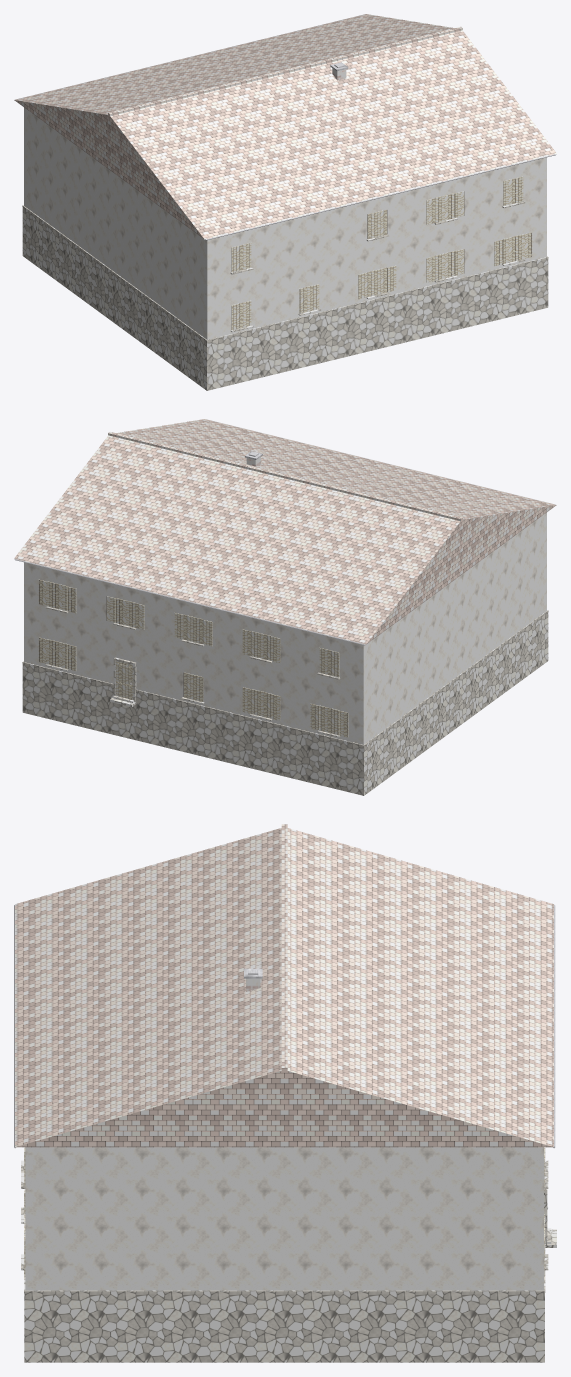
The picture shows the model from 3 angles, top to bottom: view 1: azimuth 30°, elevation 25°; view 2: azimuth 150°, elevation 25°; view 3: azimuth 270°, elevation 25°; orthographic projection. The views are drawn at different scales.
Parts seen in each view (by area): view 1: b615241432; view 2: b615241432; view 3: b615241432.
Boxes of the visible parts, bbox=[...] form: b615241432: bbox=[14, 14, 556, 390]; b615241432: bbox=[14, 419, 556, 795]; b615241432: bbox=[14, 824, 556, 1362].
Size of the model in its own units: 19.82 by 11.51 by 18.68.
19 materials, 19 textured.
